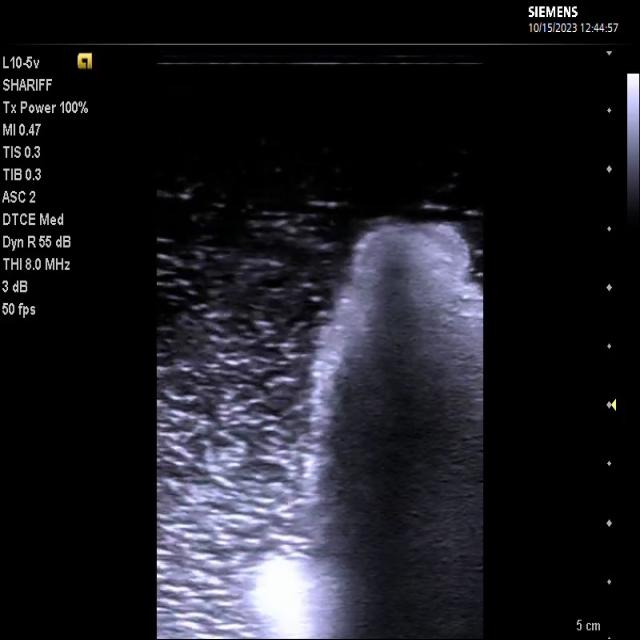tissue: (243, 222, 483, 639)
